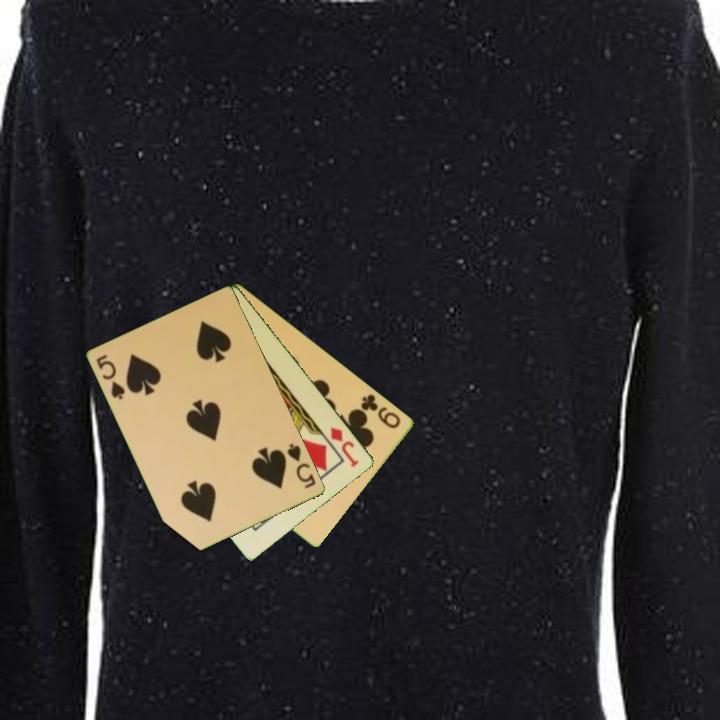5s: (284, 440, 319, 492), (93, 351, 128, 403)
9c: (357, 390, 404, 431)
Jd: (327, 423, 362, 470)
